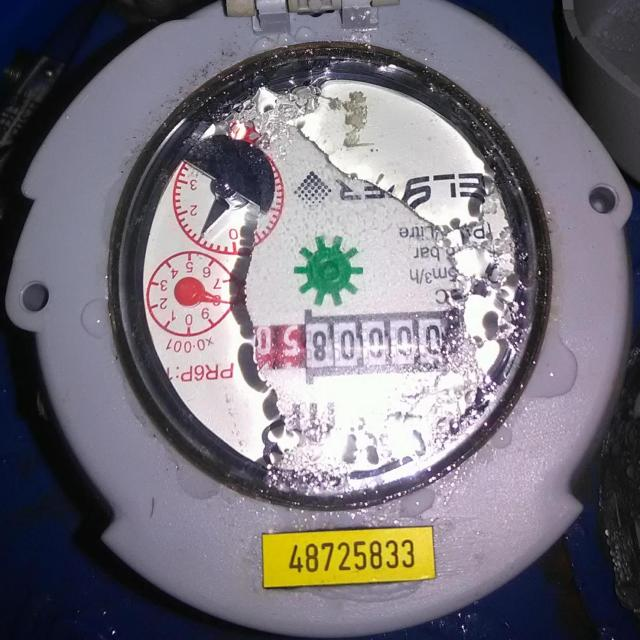gaz_meter: (109, 38, 552, 514)
indication: (247, 315, 448, 366)
